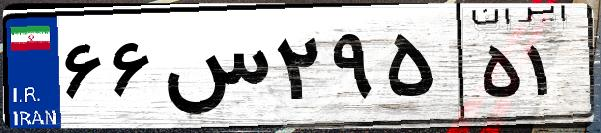1: (525, 38, 570, 115)
2: (270, 28, 330, 110)
5: (385, 28, 445, 110), (475, 38, 525, 113)
6: (57, 26, 110, 100), (110, 28, 158, 98)
9: (330, 28, 385, 110)
س: (158, 20, 270, 120)
